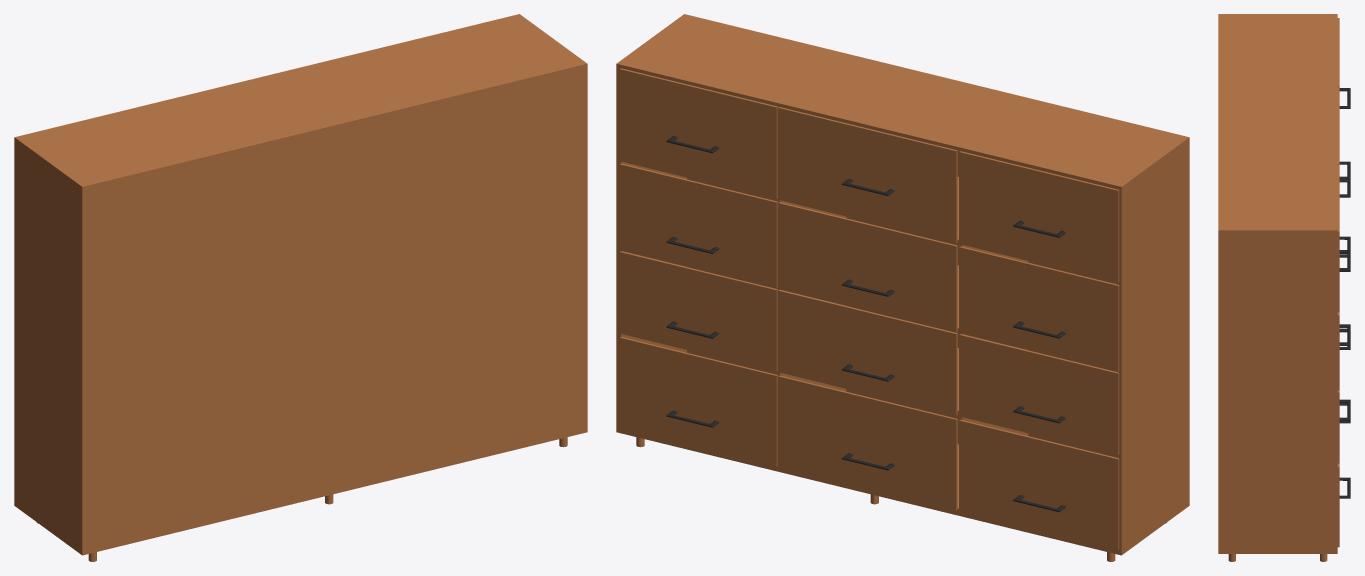
Rendered from drawer.fbx.
3 renders of one model, left to right at view 1: azimuth 30°, elevation 25°; view 2: azimuth 150°, elevation 25°; view 3: azimuth 270°, elevation 25°, orthographic. The views are drawn at different scales.
Parts seen in each view (by area): view 1: archivio_corpo; view 2: archivio_corpo, archivio_maniglie; view 3: archivio_corpo, archivio_maniglie.
Part boxes in pixels (x1,y1,x2,y2): archivio_corpo: [14, 14, 587, 561]; archivio_corpo: [616, 14, 1189, 561]; archivio_maniglie: [666, 136, 1065, 512]; archivio_corpo: [1218, 14, 1339, 561]; archivio_maniglie: [1339, 88, 1350, 498].
Size of the model in its own units: 172 by 125 by 44.44.
